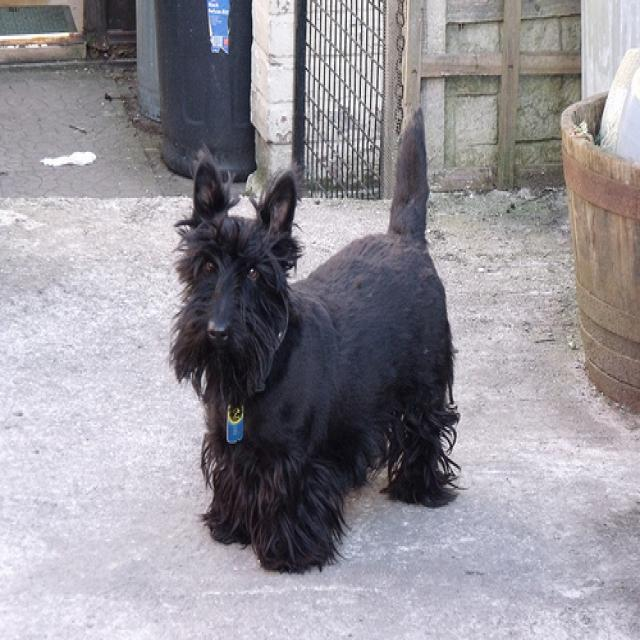dog-scottish_terrier: (164, 101, 470, 573)
